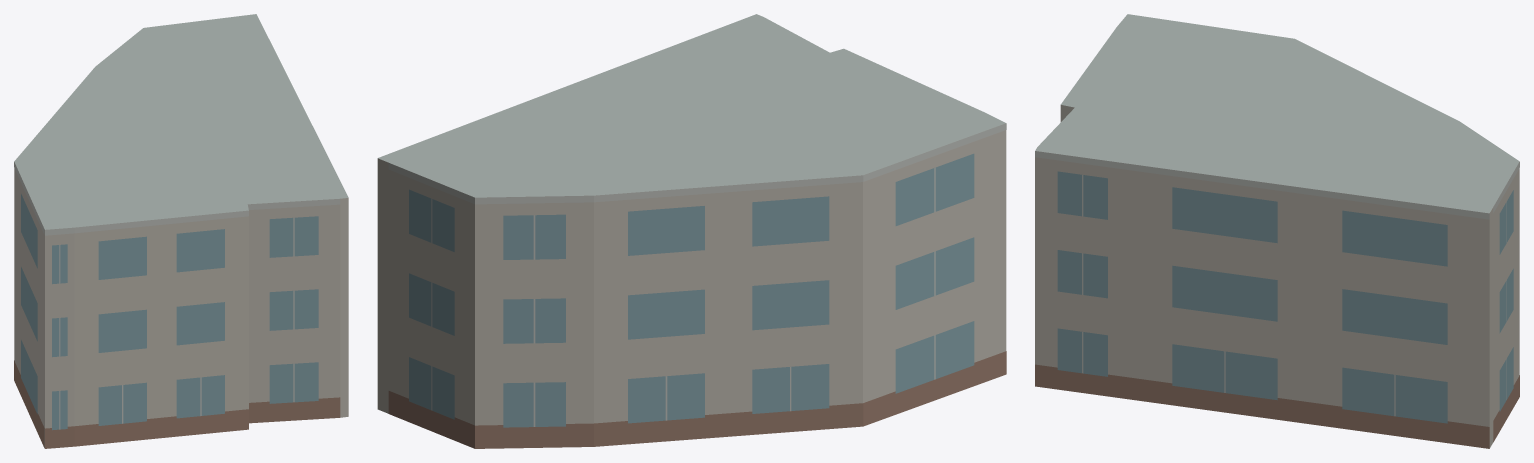
The model's file is survey-upis-33022248.glb.
3 renders of one model, left to right at view 1: azimuth 30°, elevation 25°; view 2: azimuth 150°, elevation 25°; view 3: azimuth 270°, elevation 25°, orthographic. The views are drawn at different scales.
Parts seen in each view (by area): view 1: survey-upis-33022248.tmp; view 2: survey-upis-33022248.tmp; view 3: survey-upis-33022248.tmp.
Boxes of the visible parts, x1,y1,x2,y2 form: survey-upis-33022248.tmp: (14,14,348,448); survey-upis-33022248.tmp: (377,14,1006,448); survey-upis-33022248.tmp: (1035,14,1519,448).
Size of the model in its own units: 16.62 by 9.15 by 17.08.
